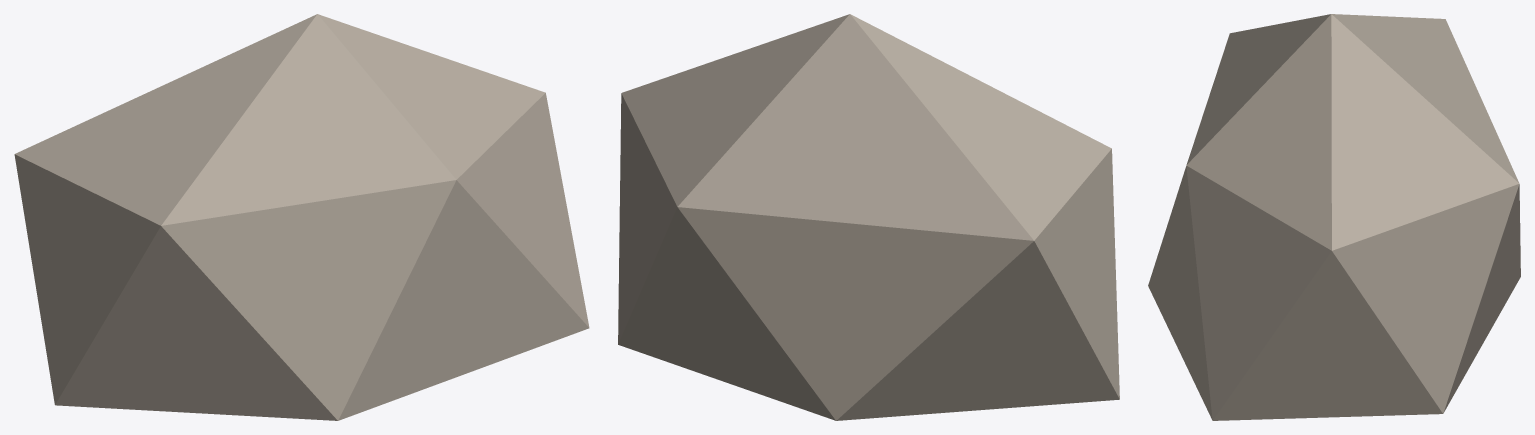
The model's file is rock.glb.
3 renders of one model, left to right at view 1: azimuth 30°, elevation 25°; view 2: azimuth 150°, elevation 25°; view 3: azimuth 270°, elevation 25°, orthographic. The views are drawn at different scales.
Visible parts, largest first — view 1: rock; view 2: rock; view 3: rock.
Part boxes in pixels (bbox=[...]): rock: bbox=[14, 14, 589, 420]; rock: bbox=[618, 14, 1119, 420]; rock: bbox=[1148, 14, 1520, 420].
Bounding box in the file's own units: 1.93 × 1.36 × 1.31.
